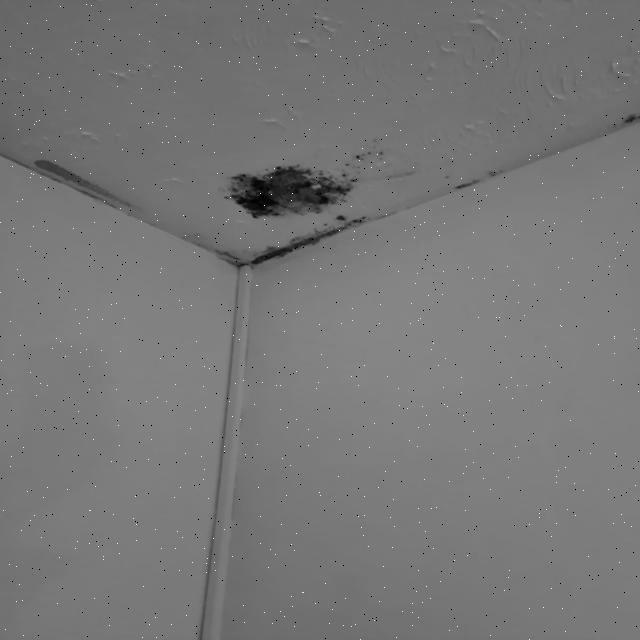stain marks: (218, 150, 360, 262), (21, 159, 157, 206), (357, 124, 419, 200), (454, 162, 512, 206), (601, 110, 640, 134)
